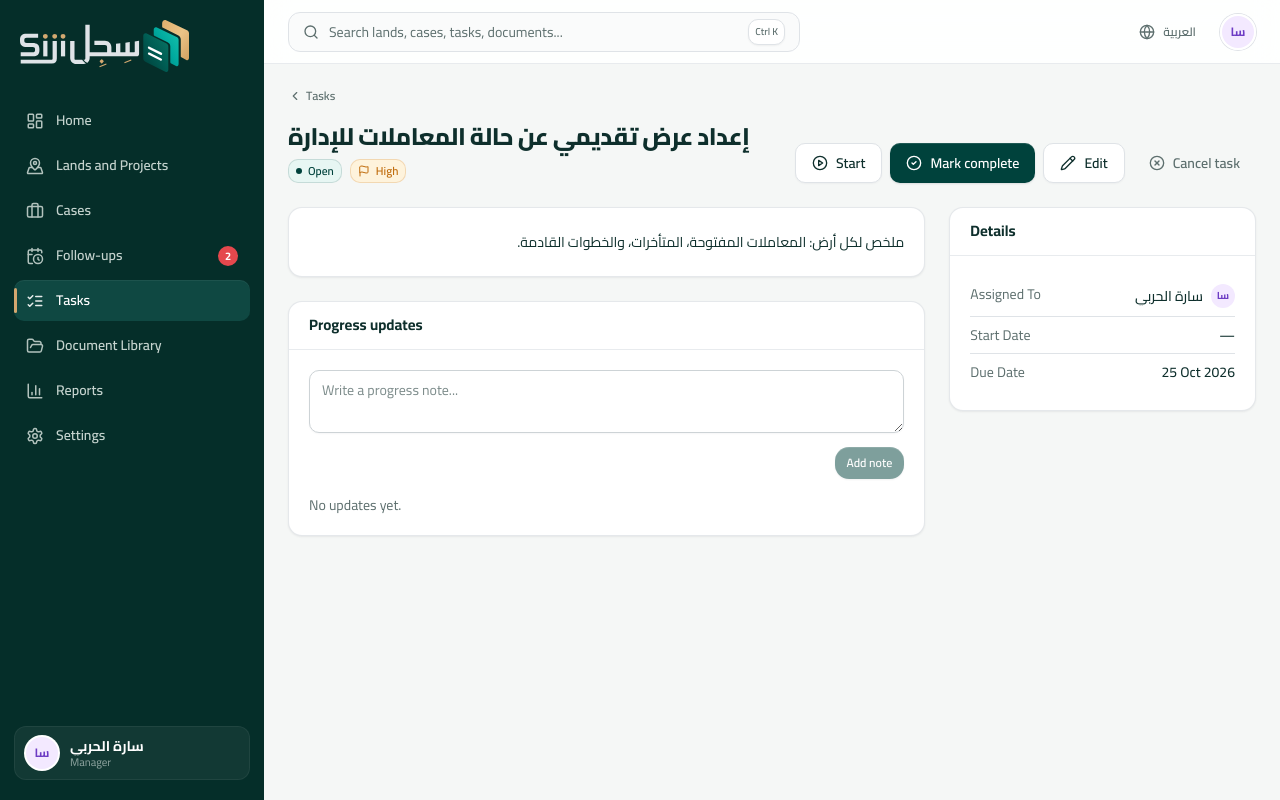
it: tasks › adds a progress note
This screenshot has width=1280, height=800.
Type "Slides drafted." into the text box labelled "progress note" at (607, 402), box [309,370,904,433]
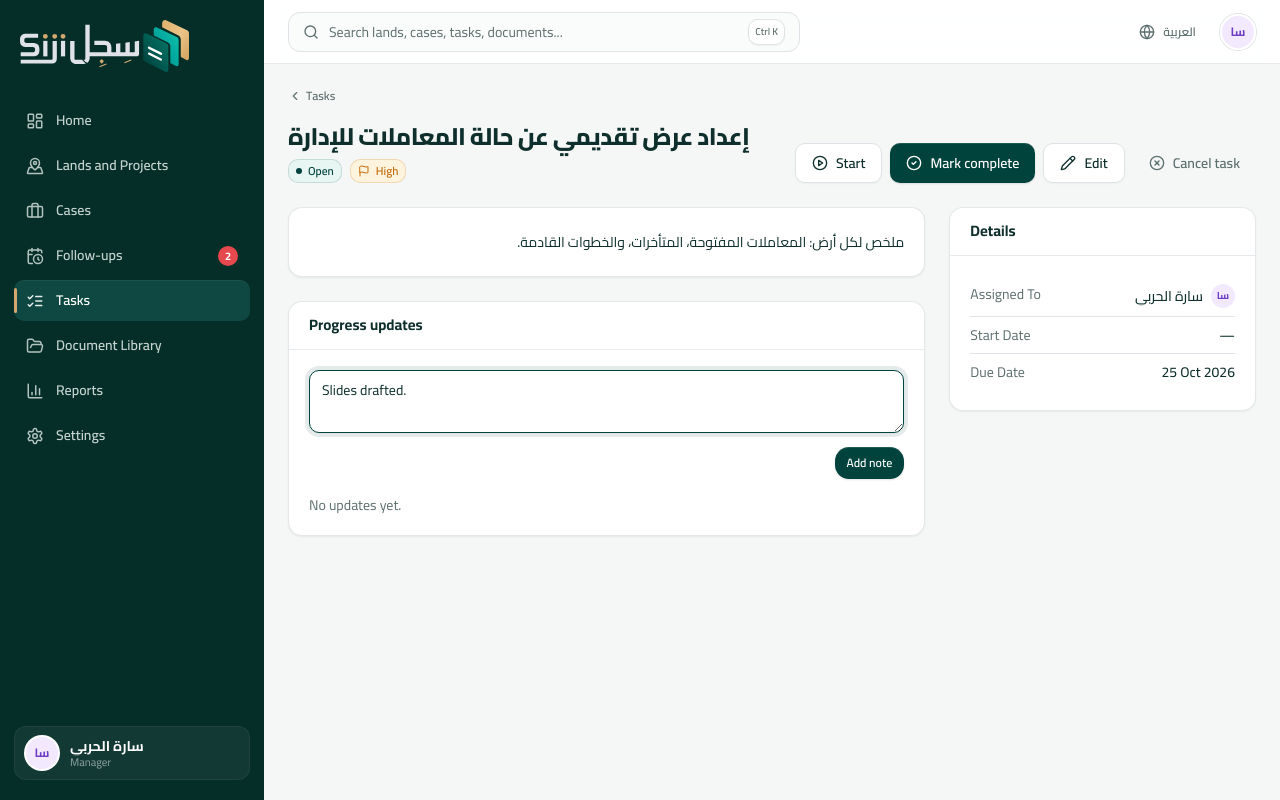
Click the button "Add note" at (869, 463), box [834,447,904,479]
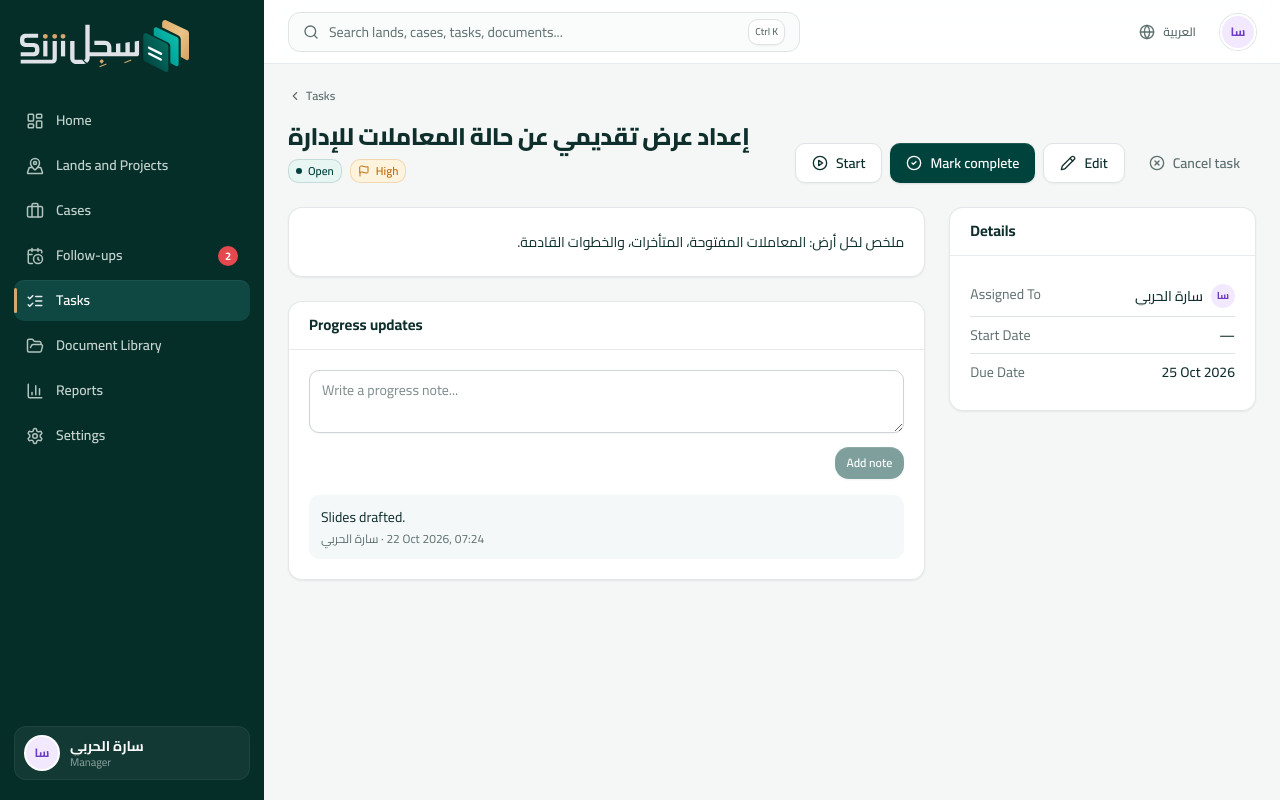
Expected: the text box "Slides drafted." is shown, [309,370,904,433]
Result: the text "Slides drafted." is shown at [321,504,405,530]
